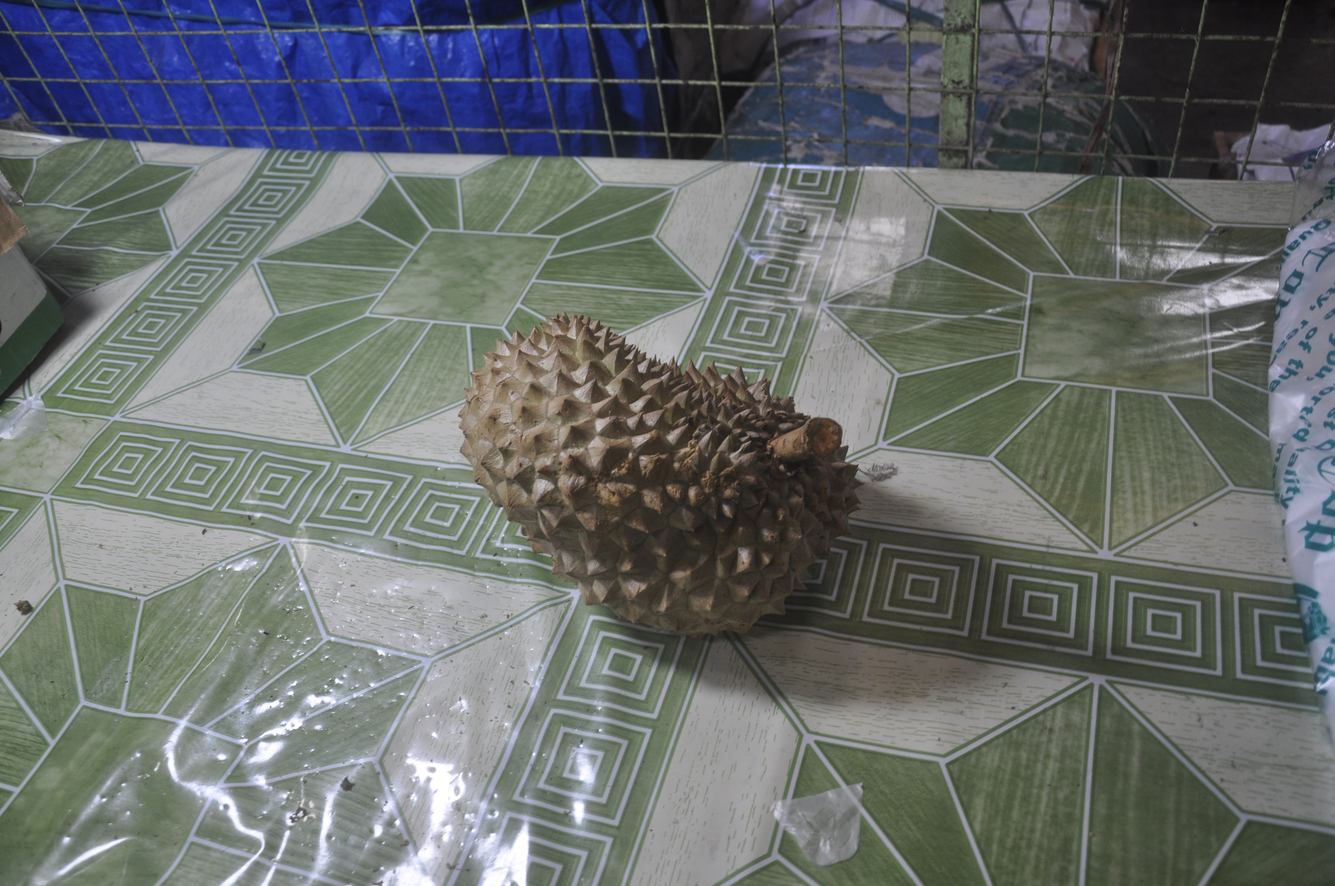mature: (460, 314, 861, 637)
